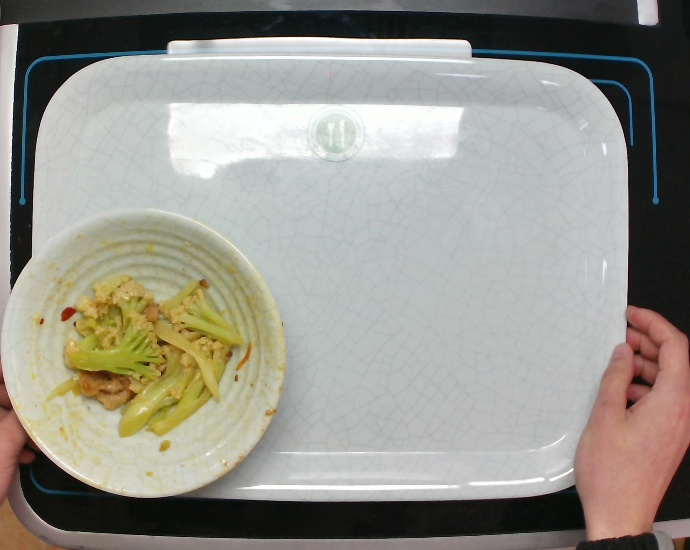JYsf-Xiao_Tang_Wan: (4, 199, 294, 510)
